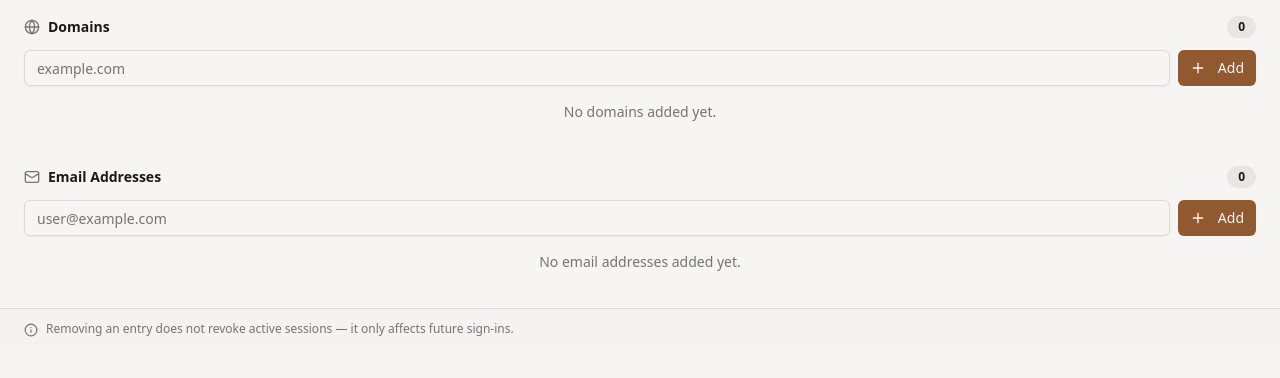
Test: AllowlistPanel › shows empty input error when email input is blank
Click the 2nd button "Add".
click(1217, 218)  # box 1178,200 -> 1256,236
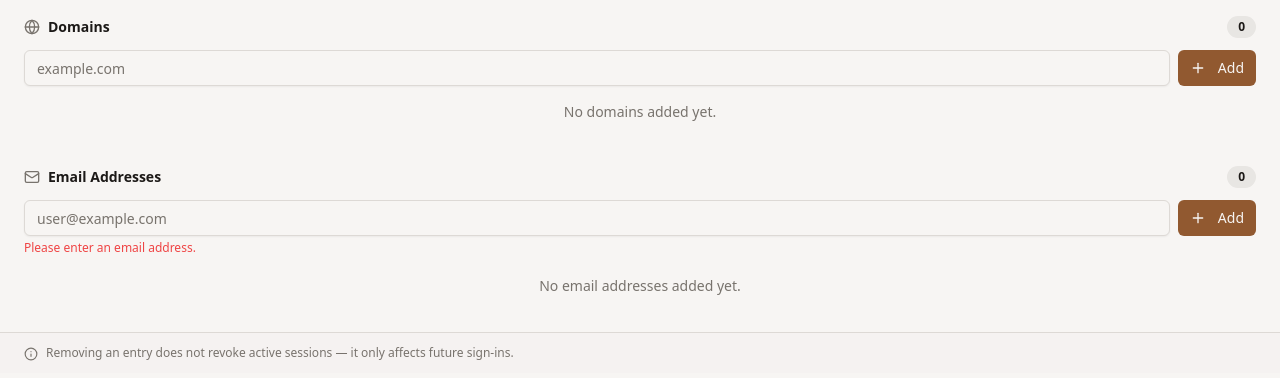
Expected: the text "Please enter an email address" is shown, 24,239 -> 196,256
